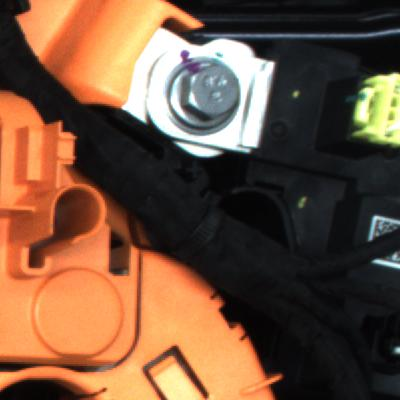nut_b: (156, 53, 257, 141)
